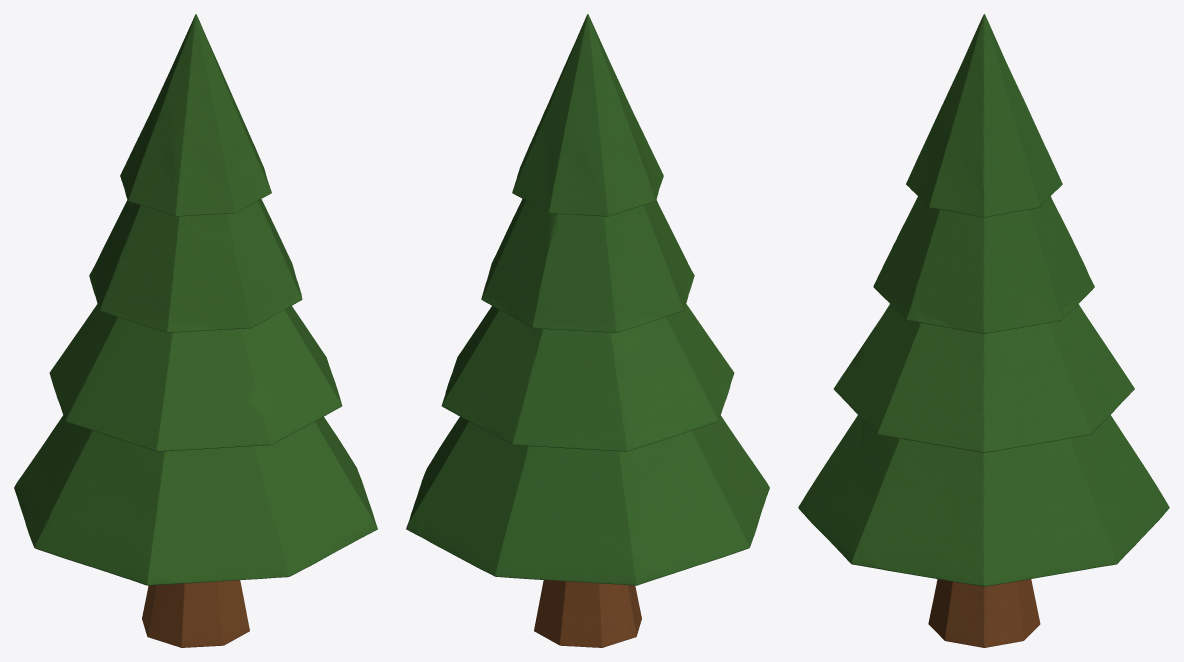
File: Meshy_AI_Low_Poly_Evergreen_1009144053_texture.fbx
3 views of the same model, side by side, from view 1: azimuth 30°, elevation 25°; view 2: azimuth 150°, elevation 25°; view 3: azimuth 270°, elevation 25° (orthographic).
Visible parts, largest first — view 1: Mesh_0; view 2: Mesh_0; view 3: Mesh_0.
Part boxes in pixels (<box>): Mesh_0: <box>14,14,377,647</box>; Mesh_0: <box>406,14,769,647</box>; Mesh_0: <box>798,14,1169,647</box>.
Bounding box in the file's own units: 105 × 190 × 105.
1 material, 1 textured.
